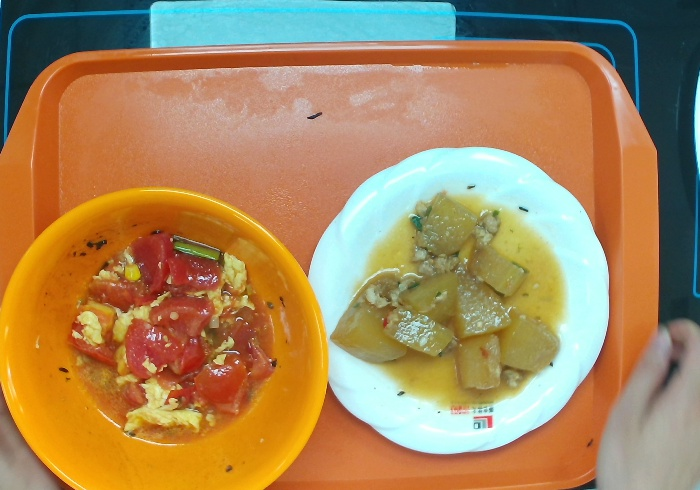ZNLD-Hua_Bian_Wan: (306, 138, 622, 472)
ZNLD-Ju_Se_Tang_Wan: (1, 179, 338, 490)
